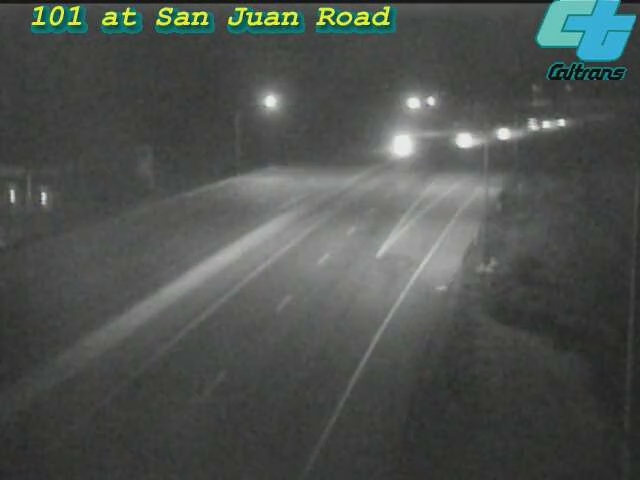vehicle: (249, 136, 329, 216), (375, 120, 425, 170), (536, 98, 586, 148), (521, 100, 571, 150), (509, 99, 559, 149), (481, 108, 531, 158), (442, 113, 492, 163)
